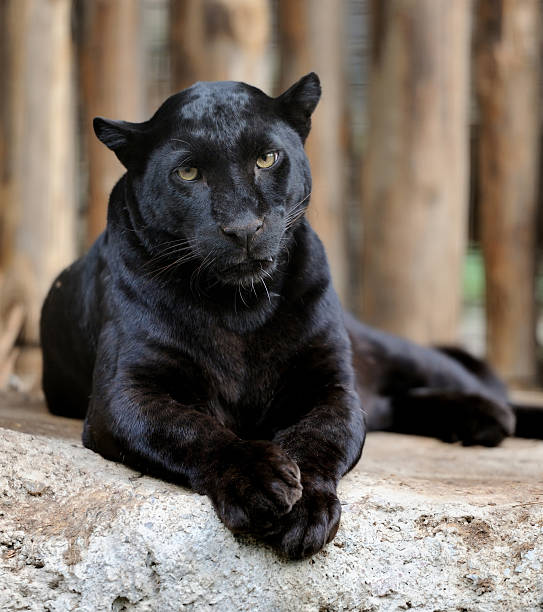panther: (57, 69, 356, 318)
